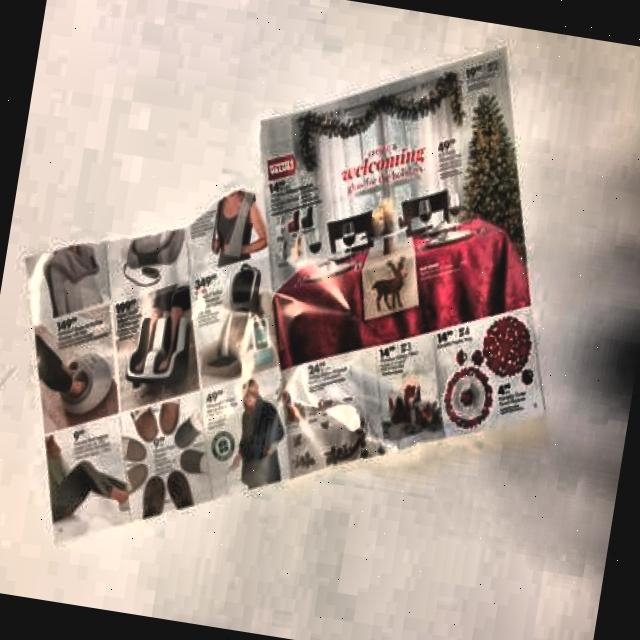paper: (0, 0, 604, 580)
